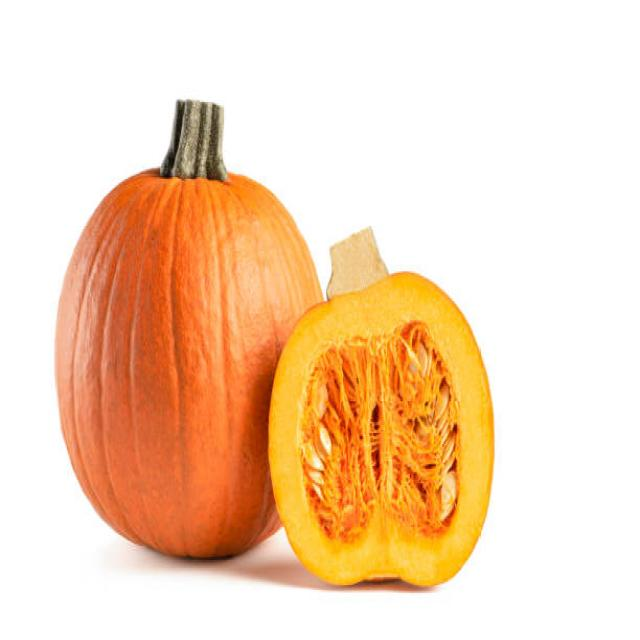Pumpkin: (54, 154, 270, 557), (270, 267, 496, 594)
